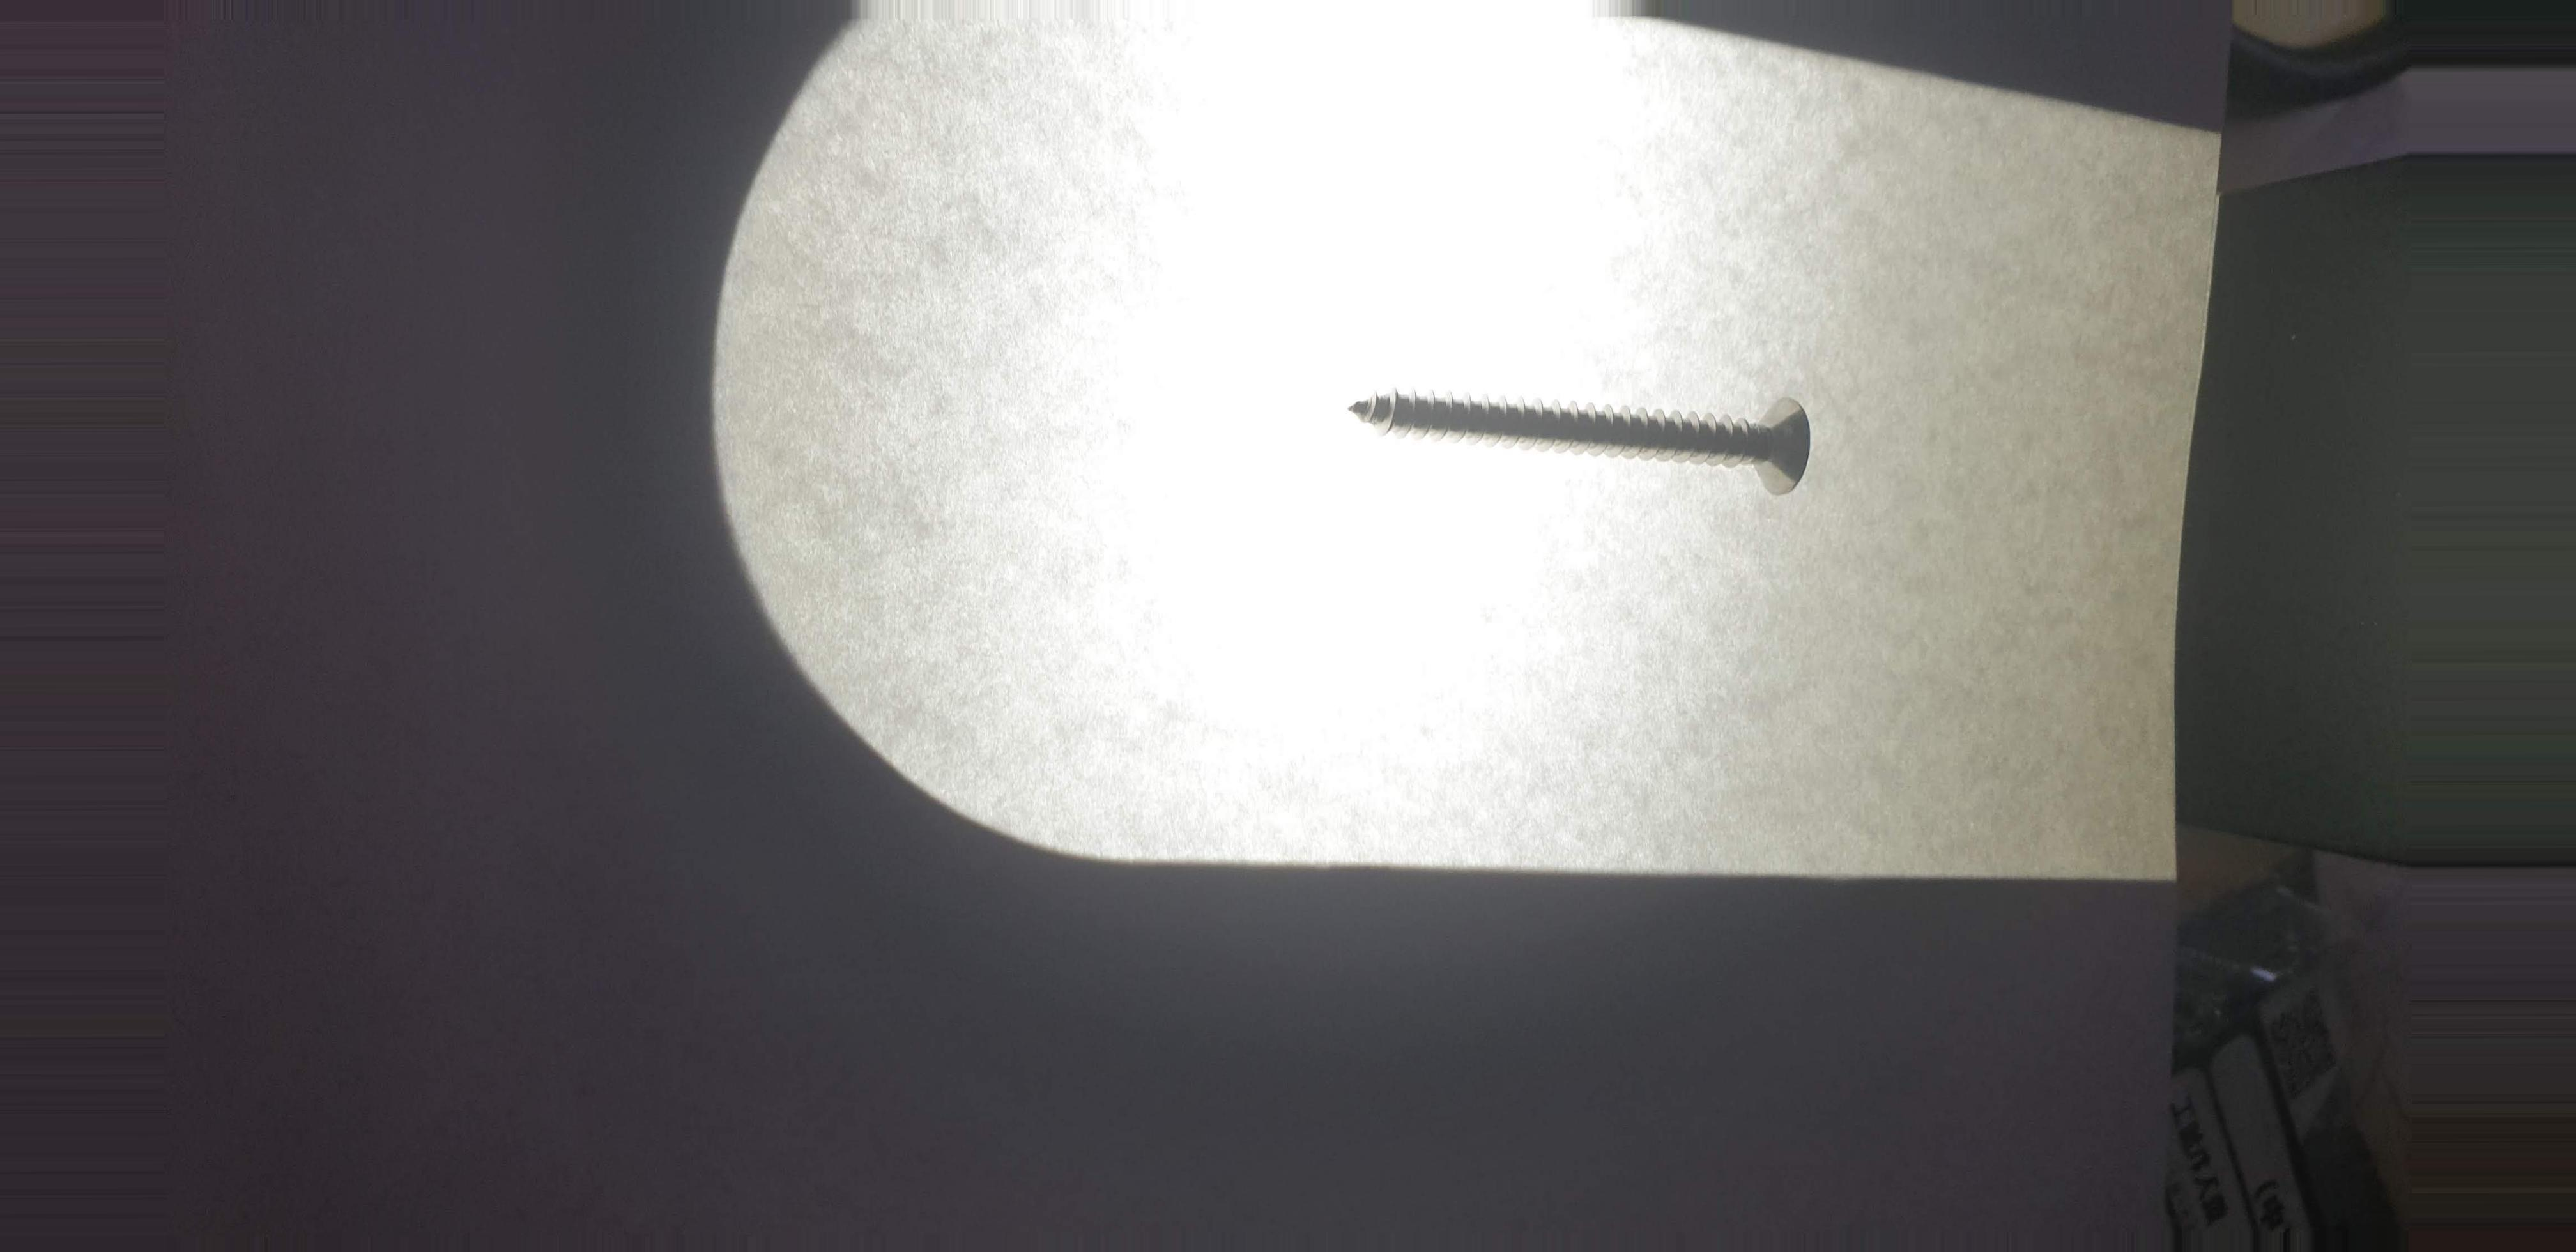S001: (1322, 348, 1848, 516)
